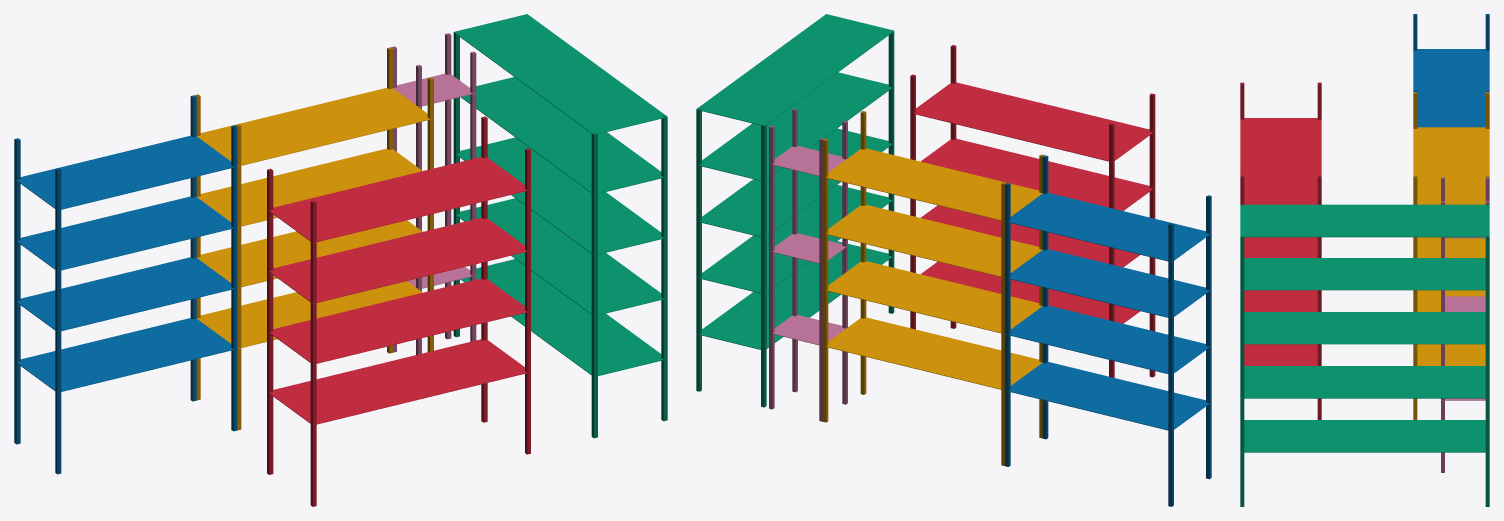
The model's file is b5-shelves.glb.
The picture shows the model from 3 angles, left to right: view 1: azimuth 30°, elevation 25°; view 2: azimuth 150°, elevation 25°; view 3: azimuth 270°, elevation 25°; orthographic projection. The views are drawn at different scales.
Bounding box in the file's own units: 5.3 × 3 × 2.51.
